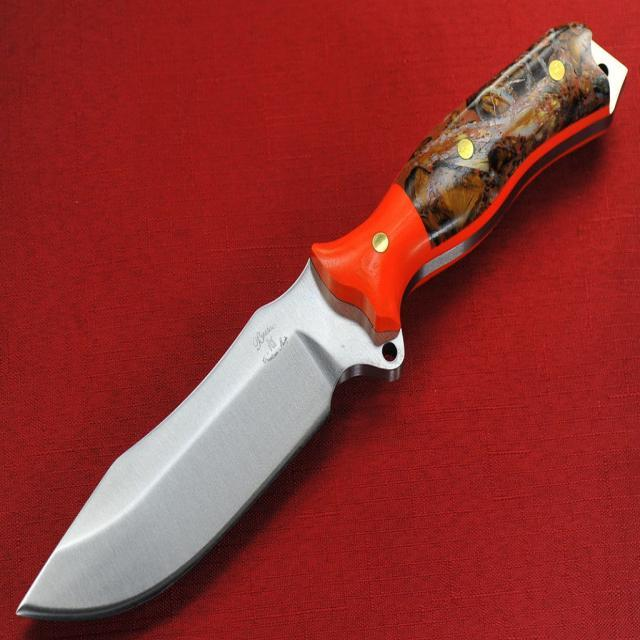Knife: (16, 23, 629, 626)
